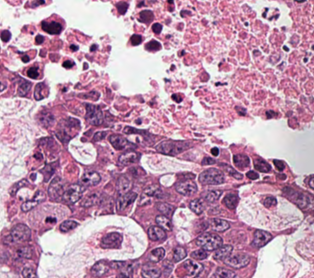nucleus: (155, 140, 190, 155), (195, 232, 222, 250), (21, 190, 44, 211), (139, 185, 162, 205), (5, 224, 30, 242), (198, 168, 224, 184), (62, 184, 83, 203), (85, 103, 102, 125), (48, 177, 64, 200), (116, 192, 136, 210), (220, 163, 242, 179), (251, 230, 271, 247), (175, 179, 196, 195), (109, 134, 130, 149), (81, 192, 102, 207), (101, 232, 122, 247), (118, 150, 139, 164), (116, 175, 131, 194), (81, 171, 100, 185), (41, 21, 61, 34), (253, 157, 270, 172), (156, 202, 174, 216), (148, 226, 166, 240), (10, 180, 26, 195), (155, 215, 171, 230), (18, 77, 31, 95), (34, 82, 47, 100), (211, 218, 229, 231), (223, 193, 238, 208), (233, 154, 249, 168), (189, 199, 203, 214), (59, 220, 78, 231), (39, 112, 53, 126), (205, 190, 221, 202), (138, 10, 153, 22), (42, 165, 53, 180), (124, 126, 147, 133), (129, 167, 145, 177), (145, 40, 160, 50), (116, 1, 127, 14), (130, 34, 142, 45), (263, 196, 276, 206), (27, 67, 38, 78), (273, 159, 284, 170), (93, 131, 106, 140), (201, 157, 215, 165), (40, 137, 53, 145), (1, 30, 10, 41), (62, 60, 74, 68), (246, 171, 258, 179), (152, 23, 161, 33), (172, 94, 181, 102), (266, 110, 275, 118), (35, 35, 43, 43), (211, 147, 218, 155), (70, 44, 77, 50), (46, 217, 55, 221), (90, 45, 96, 50), (22, 56, 28, 61)
